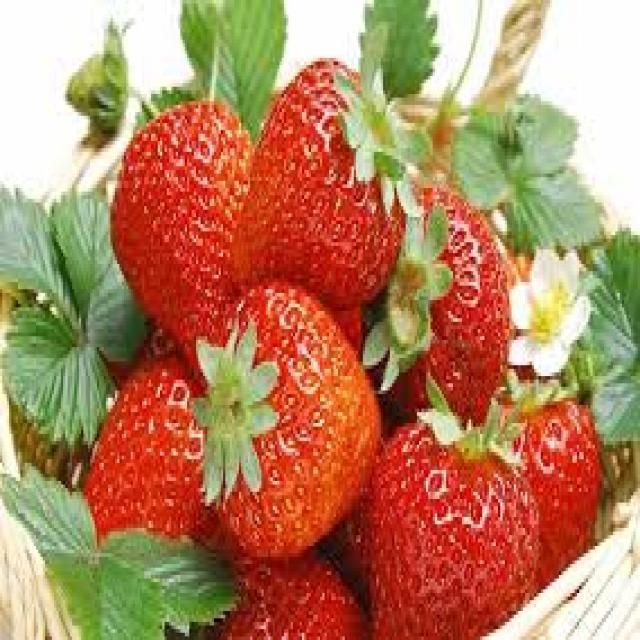Fruta sana: (194, 264, 378, 554), (235, 34, 402, 304), (368, 381, 538, 638), (376, 155, 510, 424), (101, 100, 247, 326), (70, 351, 219, 558), (478, 352, 608, 574), (230, 523, 368, 640)
